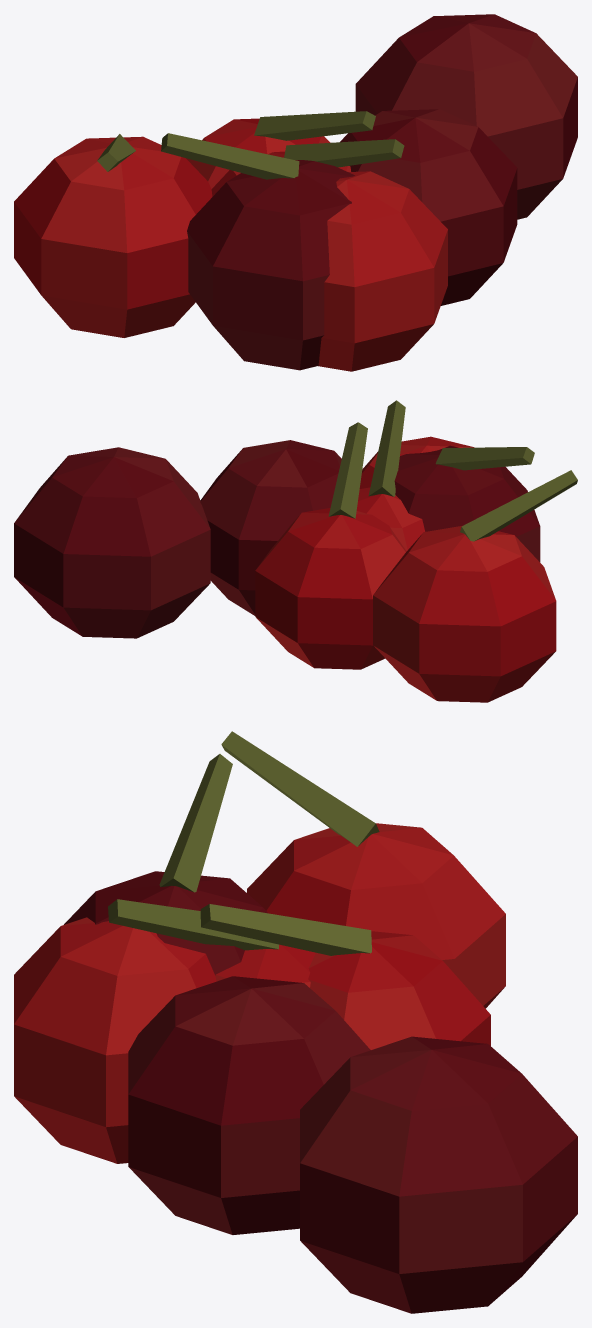
File: fruit_ground_fruits_c.glb
3 views of the same model, one above another, from view 1: azimuth 30°, elevation 25°; view 2: azimuth 150°, elevation 25°; view 3: azimuth 270°, elevation 25° (orthographic). The views are drawn at different scales.
Visible parts, largest first — view 1: fruit_ground_fruits_c; view 2: fruit_ground_fruits_c; view 3: fruit_ground_fruits_c.
Part boxes in pixels (x1,y1,x2,y2): fruit_ground_fruits_c: [14, 14, 577, 371]; fruit_ground_fruits_c: [14, 400, 577, 702]; fruit_ground_fruits_c: [14, 731, 577, 1313].
Size of the model in its own units: 0.7709 by 0.3162 by 0.5256.
